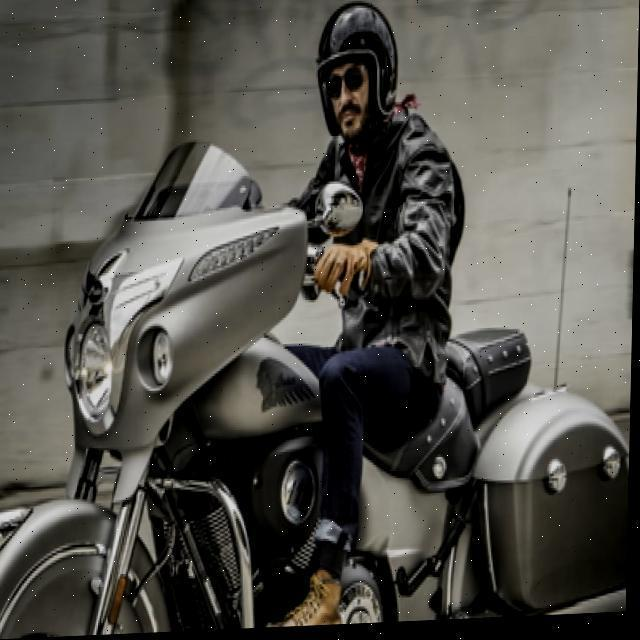Helmet: (306, 0, 403, 140)
